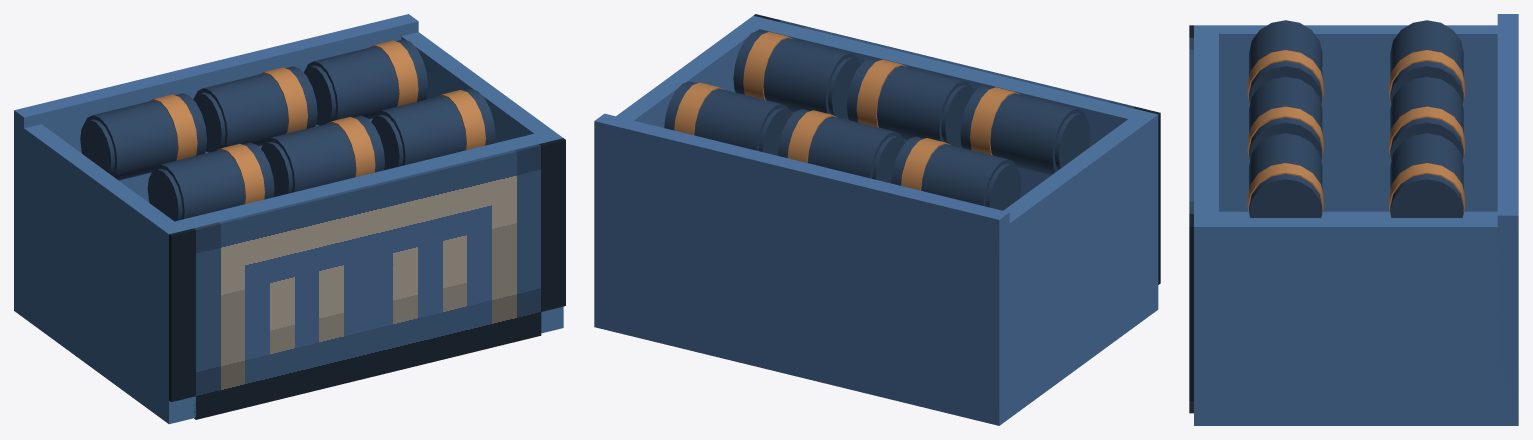
The model's file is CMU3DRMCBoxShotgunBeanbag.glb.
3 views of the same model, side by side, from view 1: azimuth 30°, elevation 25°; view 2: azimuth 150°, elevation 25°; view 3: azimuth 270°, elevation 25° (orthographic). The views are drawn at different scales.
Parts seen in each view (by area): view 1: Front source artwork, carton side wall (×2), source horizontal shell hull (×6), rear carton wall, source brass band (×6), shell crimped end (×6), printed front wall, open carton bottom; view 2: rear carton wall, carton side wall (×2), source horizontal shell hull (×6), open carton bottom, source brass band (×6), shell crimped end (×6), printed front wall, Front source artwork; view 3: carton side wall (×2), source horizontal shell hull (×6), rear carton wall, open carton bottom, printed front wall, source brass band (×6), Front source artwork.
Part boxes in pixels (x1,y1,x2,y2): Front source artwork: (169, 138, 565, 419); carton side wall (×2): (14, 32, 563, 405); source horizontal shell hull (×6): (85, 39, 495, 219); rear carton wall: (14, 14, 418, 298); source brass band (×6): (148, 40, 485, 204); shell crimped end (×6): (80, 65, 403, 221); printed front wall: (157, 129, 562, 406); open carton bottom: (14, 290, 563, 424); rear carton wall: (594, 113, 1009, 408); carton side wall (×2): (594, 15, 1158, 408); source horizontal shell hull (×6): (664, 30, 1085, 206); open carton bottom: (594, 289, 1158, 425); source brass band (×6): (674, 32, 1020, 190); shell crimped end (×6): (758, 57, 1090, 210); printed front wall: (743, 16, 1157, 198); Front source artwork: (753, 14, 1160, 284); carton side wall (×2): (1194, 25, 1518, 408); source horizontal shell hull (×6): (1249, 20, 1463, 217); rear carton wall: (1497, 14, 1518, 408); open carton bottom: (1194, 211, 1518, 425); printed front wall: (1194, 25, 1218, 408); source brass band (×6): (1247, 50, 1465, 217); Front source artwork: (1189, 25, 1193, 413).
Size of the model in its own units: 0.5 by 0.262 by 0.345.
Materials: 5 (1 with a texture image).
